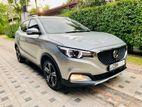car: (11, 13, 129, 93)
